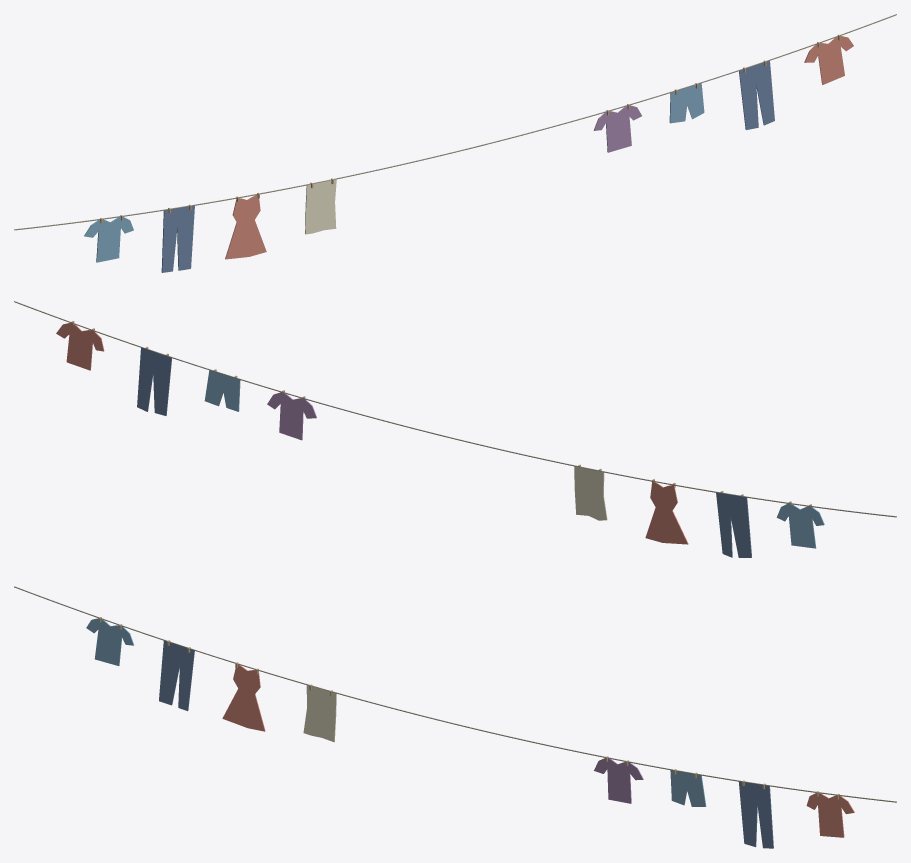
File: alley-colour-line.glb
The picture shows the model from 3 angles, top to bottom: view 1: azimuth 30°, elevation 25°; view 2: azimuth 150°, elevation 25°; view 3: azimuth 330°, elevation 25°; orthographic projection.
Parts seen in each view (by area): view 1: Cloth_Pants_1, Cloth_Pants_6, Cloth_Dress_2, Fixed clothesline, Cloth_Towel_3, Cloth_Tee_7, Cloth_Tee_0, Cloth_Tee_4, Cloth_Shorts_5; view 2: Cloth_Pants_1, Cloth_Pants_6, Cloth_Dress_2, Fixed clothesline, Cloth_Towel_3, Cloth_Tee_0, Cloth_Tee_4, Cloth_Tee_7, Cloth_Shorts_5; view 3: Cloth_Pants_6, Cloth_Pants_1, Cloth_Dress_2, Fixed clothesline, Cloth_Towel_3, Cloth_Tee_7, Cloth_Tee_0, Cloth_Tee_4, Cloth_Shorts_5.
Part boxes in pixels (x1,y1,x2,y2): Cloth_Pants_1: [161, 205, 194, 272]; Cloth_Pants_6: [739, 60, 774, 129]; Cloth_Dress_2: [225, 195, 266, 259]; Fixed clothesline: [14, 14, 896, 230]; Cloth_Towel_3: [305, 179, 336, 234]; Cloth_Tee_7: [804, 36, 853, 84]; Cloth_Tee_0: [84, 217, 133, 262]; Cloth_Tee_4: [593, 105, 641, 152]; Cloth_Shorts_5: [669, 83, 704, 123]; Cloth_Pants_1: [716, 492, 751, 557]; Cloth_Pants_6: [137, 347, 171, 415]; Cloth_Dress_2: [645, 481, 688, 544]; Fixed clothesline: [14, 301, 896, 517]; Cloth_Towel_3: [574, 466, 607, 520]; Cloth_Tee_0: [776, 503, 824, 548]; Cloth_Tee_4: [267, 392, 316, 440]; Cloth_Tee_7: [56, 323, 104, 370]; Cloth_Shorts_5: [204, 370, 240, 411]; Cloth_Pants_6: [738, 781, 773, 848]; Cloth_Pants_1: [159, 640, 194, 711]; Cloth_Dress_2: [222, 664, 265, 731]; Fixed clothesline: [14, 586, 896, 802]; Cloth_Towel_3: [303, 685, 336, 742]; Cloth_Tee_7: [806, 793, 854, 837]; Cloth_Tee_0: [86, 618, 133, 665]; Cloth_Tee_4: [594, 758, 643, 803]; Cloth_Shorts_5: [670, 770, 706, 806].
Size of the model in its own units: 15.5 by 1.41 by 0.106.
